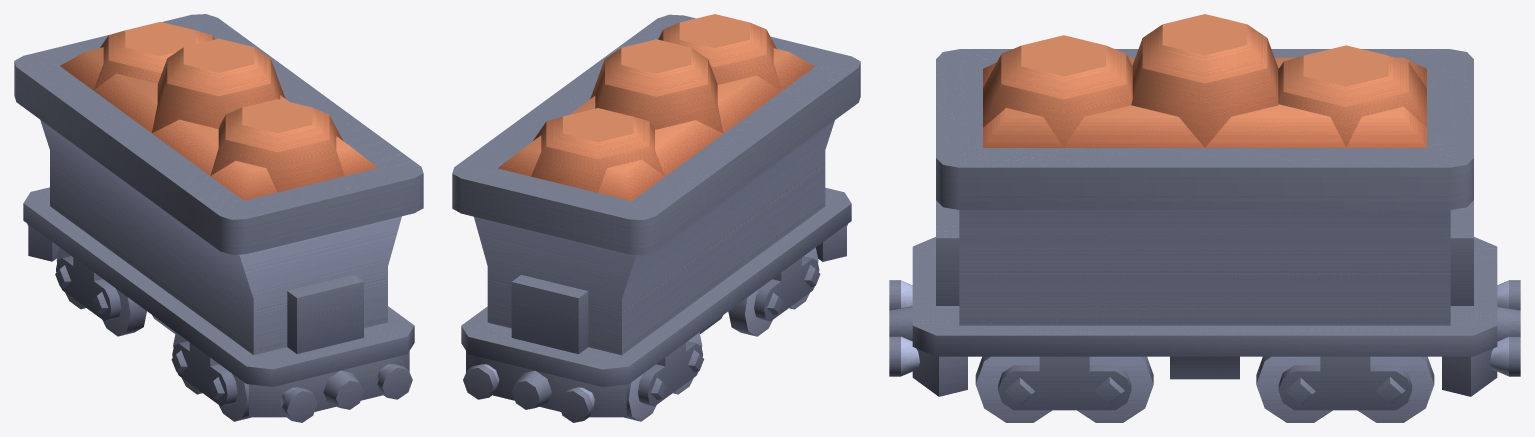
Rendered from train_carriage_dirt.glb.
3 views of the same model, side by side, from view 1: azimuth 30°, elevation 25°; view 2: azimuth 150°, elevation 25°; view 3: azimuth 270°, elevation 25° (orthographic). The views are drawn at different scales.
Parts seen in each view (by area): view 1: train-carriage-dirt, cargo, wheels-back, wheels-front; view 2: train-carriage-dirt, cargo, wheels-front, wheels-back; view 3: train-carriage-dirt, cargo, wheels-front, wheels-back.
Part boxes in pixels (bbox=[...]): train-carriage-dirt: bbox=[14, 14, 423, 422]; cargo: bbox=[60, 22, 377, 200]; wheels-back: bbox=[55, 247, 146, 336]; wheels-front: bbox=[171, 332, 250, 421]; train-carriage-dirt: bbox=[452, 14, 860, 422]; cargo: bbox=[497, 14, 815, 200]; wheels-front: bbox=[728, 247, 820, 336]; wheels-back: bbox=[624, 332, 703, 421]; train-carriage-dirt: bbox=[889, 49, 1520, 396]; cargo: bbox=[983, 14, 1426, 147]; wheels-front: bbox=[975, 356, 1153, 422]; wheels-back: bbox=[1256, 356, 1434, 422].
Bounding box in the file's own units: 1.2 × 1.65 × 2.7.
Materials: 1 (1 with a texture image).
